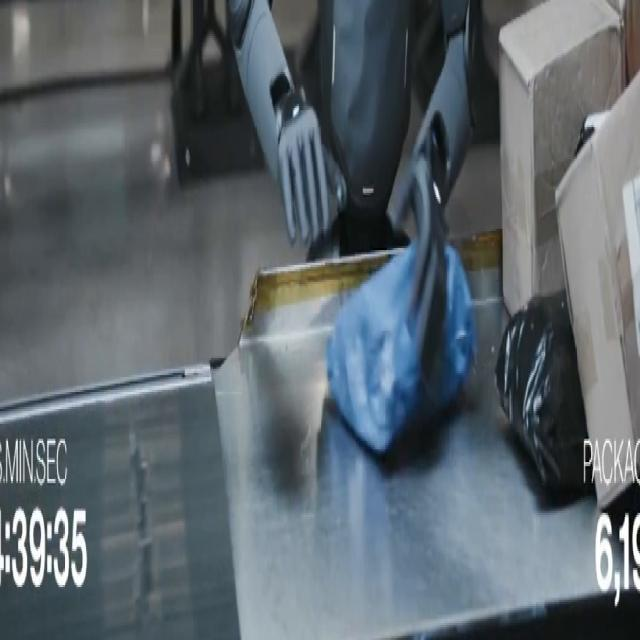package: (500, 0, 621, 313), (557, 77, 639, 508), (327, 244, 477, 455), (495, 293, 591, 495), (606, 0, 639, 84)
